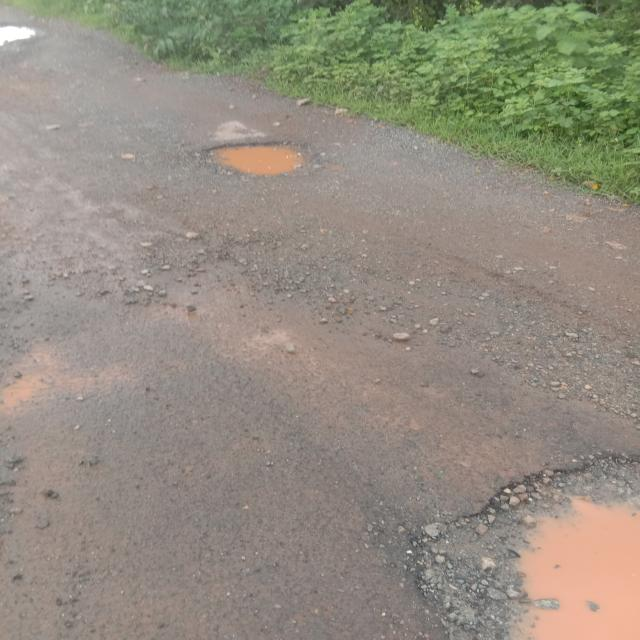potholes: (406, 451, 640, 640), (189, 138, 314, 178), (0, 21, 41, 48)
